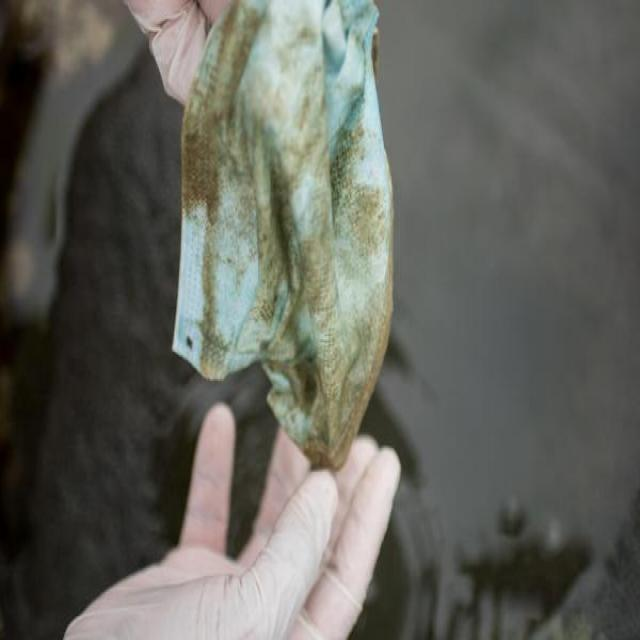face mask: (172, 0, 393, 470)
